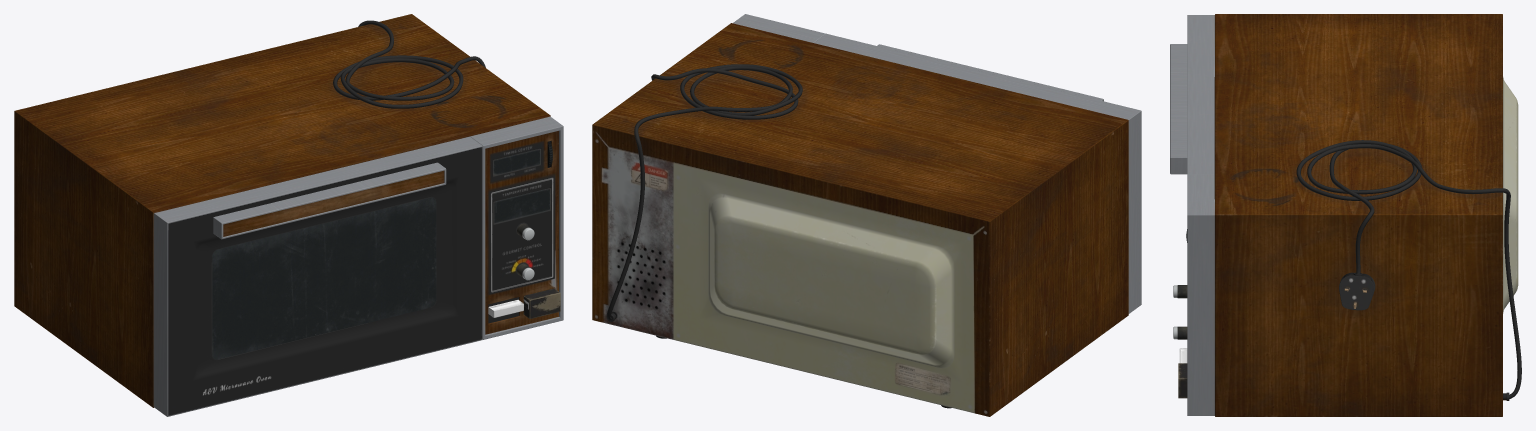
File: vintage_microwave.glb
3 views of the same model, side by side, from view 1: azimuth 30°, elevation 25°; view 2: azimuth 150°, elevation 25°; view 3: azimuth 270°, elevation 25° (orthographic). The views are drawn at different scales.
Visible parts, largest first — view 1: vintage_microwave, vintage_microwave.001; view 2: vintage_microwave; view 3: vintage_microwave.
Part boxes in pixels (x1,y1,x2,y2): vintage_microwave: [14, 14, 563, 416]; vintage_microwave.001: [212, 148, 550, 359]; vintage_microwave: [592, 14, 1141, 416]; vintage_microwave: [1170, 14, 1521, 416].
Size of the model in its own units: 1.07 by 0.5258 by 0.7456.
3 materials, 3 textured.
